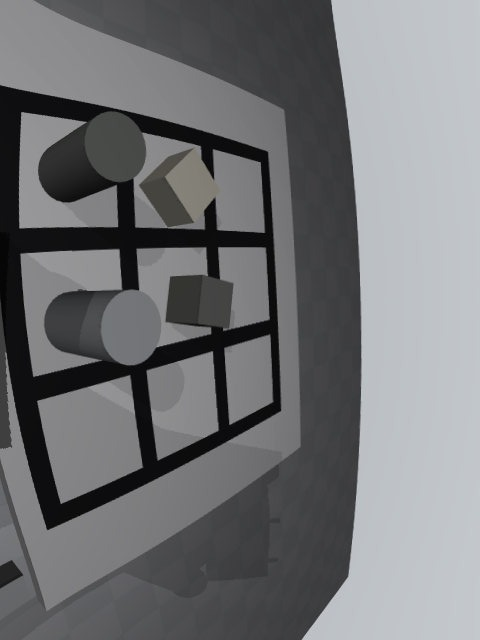can: (44, 289, 161, 365)
cube: (166, 275, 233, 328)
cylinder: (38, 111, 147, 203)
foam: (139, 147, 220, 227)
